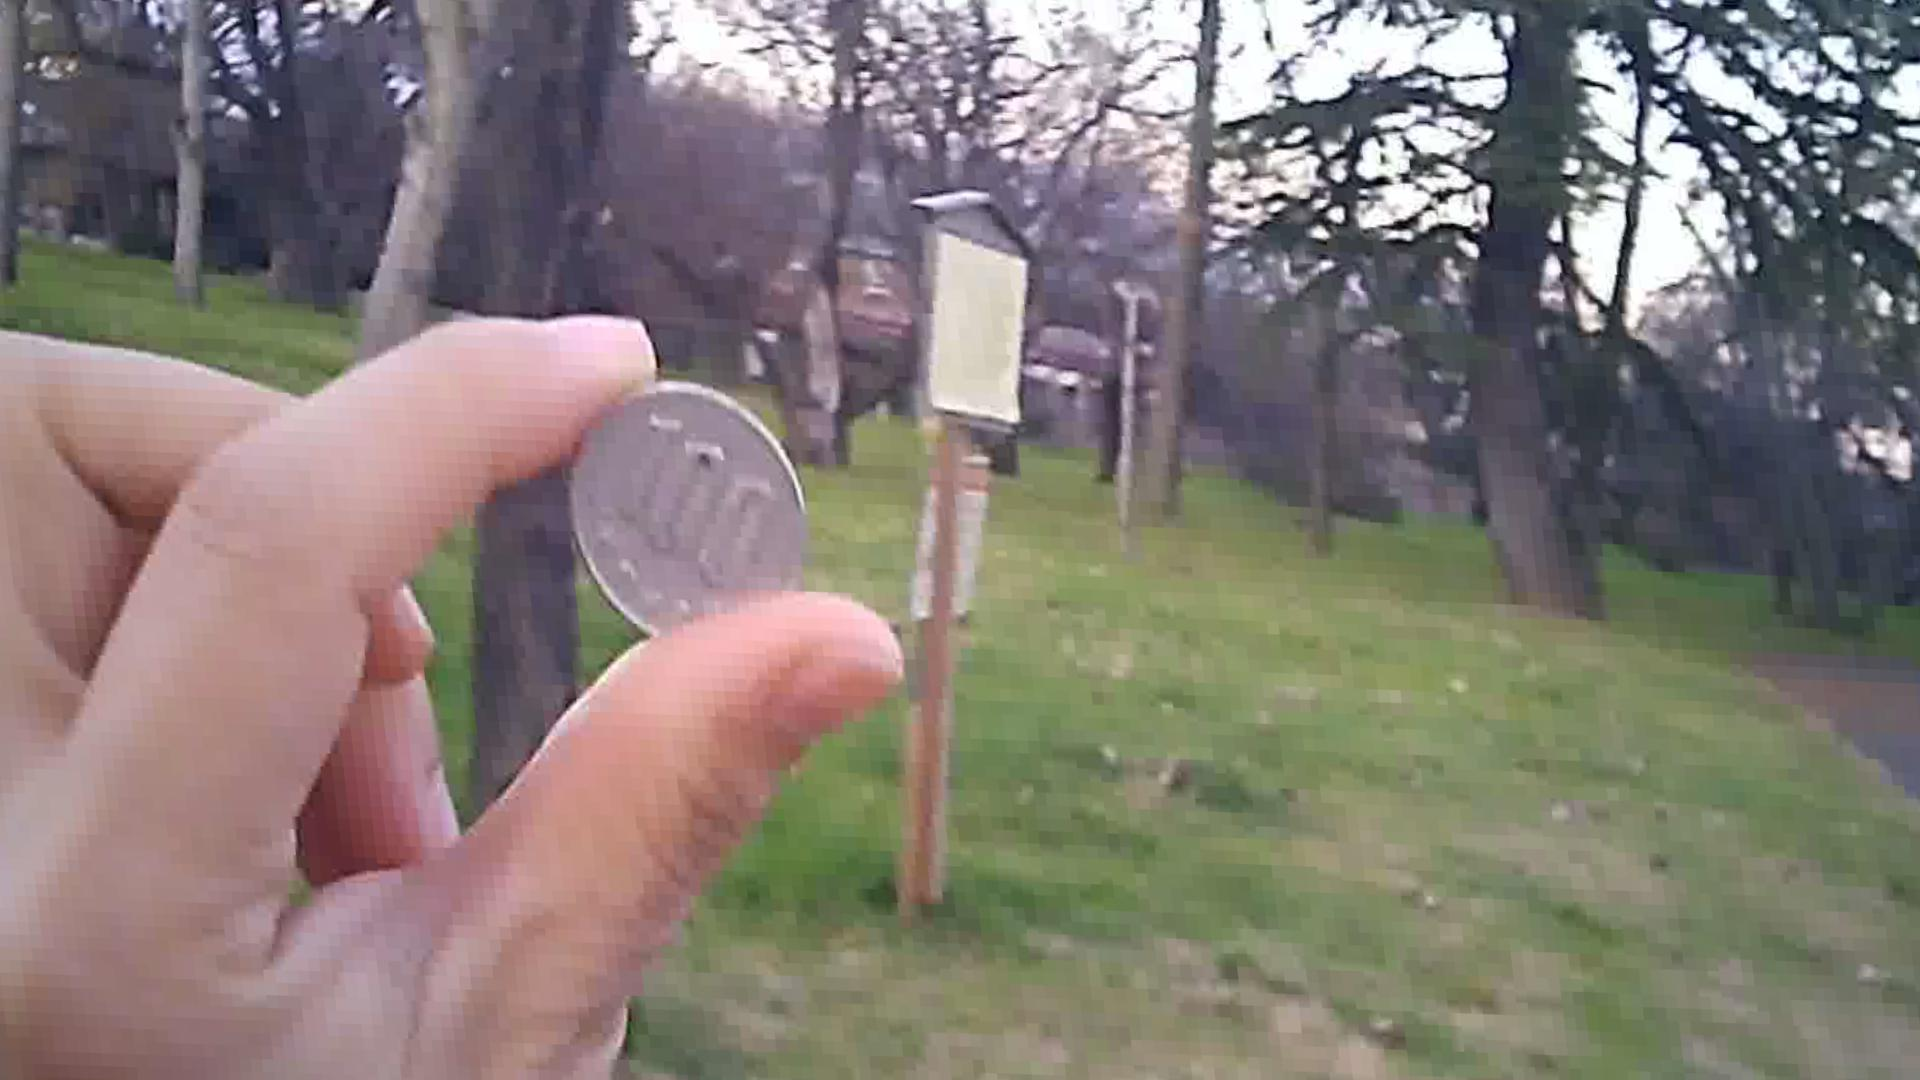100 Yen: (553, 368, 804, 658)
